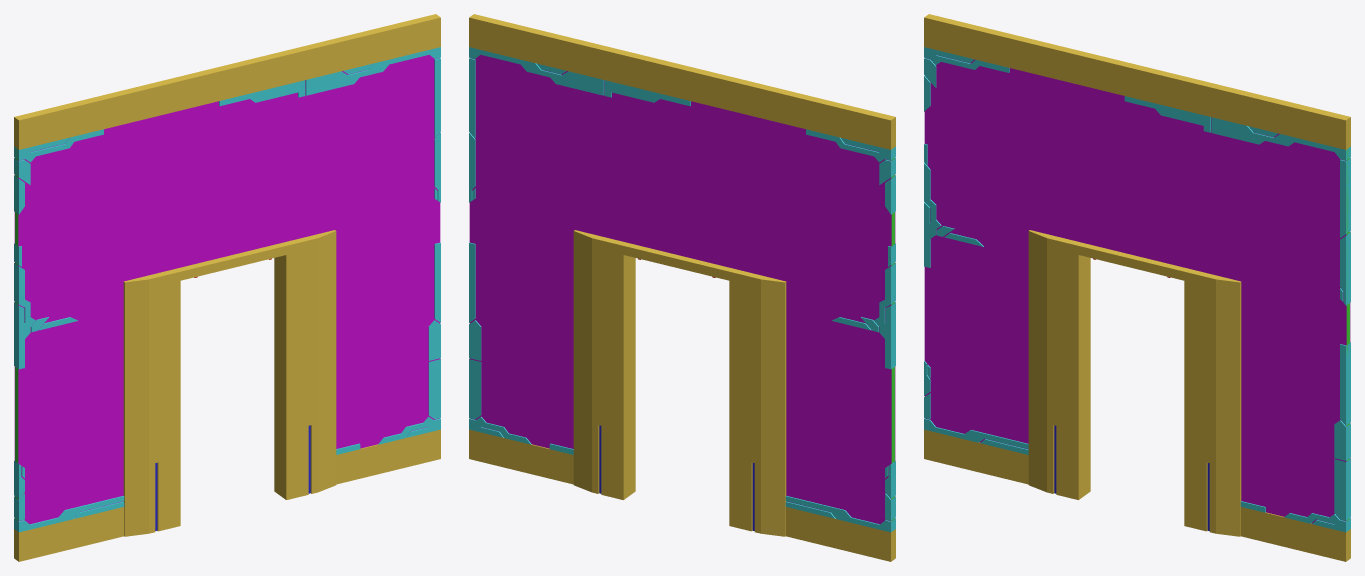
Rendered from Wall_51_Door.fbx.
The picture shows the model from 3 angles, left to right: view 1: azimuth 30°, elevation 25°; view 2: azimuth 150°, elevation 25°; view 3: azimuth 330°, elevation 25°; orthographic projection.
Visible parts, largest first — view 1: Wall_51_Pattern_Door_A, Wall_51_Door, Wall_51_Pattern_Door_D, Wall_51_Pattern_Door_B, Wall_51_Pattern_Door_C; view 2: Wall_51_Door, Wall_51_Pattern_Door_D, Wall_51_Pattern_Door_B, Wall_51_Pattern_Door_A, Wall_51_Pattern_Door_C; view 3: Wall_51_Pattern_Door_A, Wall_51_Door, Wall_51_Pattern_Door_B, Wall_51_Pattern_Door_C, Wall_51_Pattern_Door_D.
Boxes of the visible parts, x1,y1,x2,y2 form: Wall_51_Pattern_Door_A: [14, 54, 440, 523]; Wall_51_Door: [14, 14, 440, 561]; Wall_51_Pattern_Door_D: [20, 86, 439, 524]; Wall_51_Pattern_Door_B: [14, 55, 440, 521]; Wall_51_Pattern_Door_C: [14, 88, 438, 523]; Wall_51_Door: [469, 14, 895, 561]; Wall_51_Pattern_Door_D: [470, 90, 890, 523]; Wall_51_Pattern_Door_B: [469, 55, 895, 523]; Wall_51_Pattern_Door_A: [469, 55, 895, 523]; Wall_51_Pattern_Door_C: [475, 88, 895, 523]; Wall_51_Pattern_Door_A: [924, 55, 1350, 523]; Wall_51_Door: [924, 14, 1350, 561]; Wall_51_Pattern_Door_B: [924, 56, 1350, 523]; Wall_51_Pattern_Door_C: [925, 60, 1332, 499]; Wall_51_Pattern_Door_D: [931, 64, 1343, 443].
Size of the model in its own units: 457 by 457 by 22.56.
